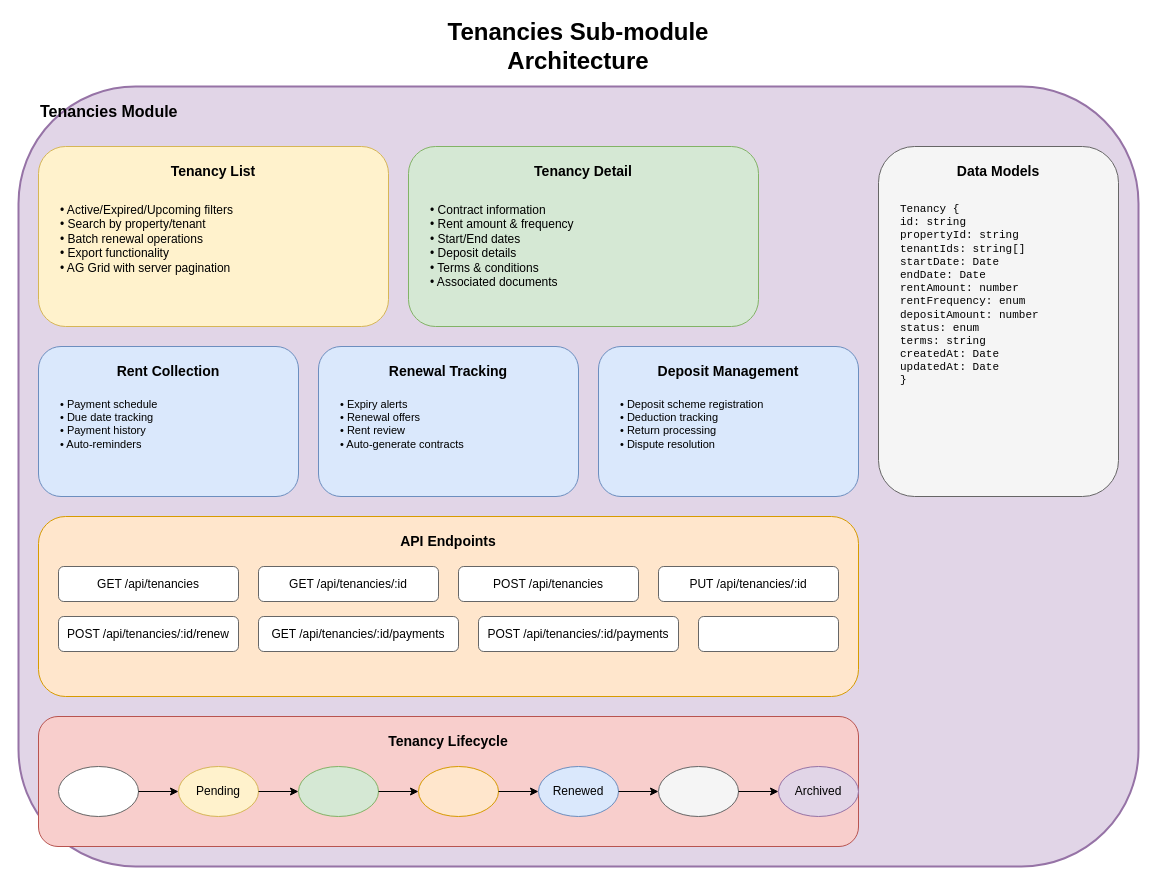
The diagram is 1156 pixels wide and 884 high, and some of its shapes have lost their labels. Here are the shapes that lost their labels. From the top down, the centre of each, then its label:
At [768,634]: "GET /api/tenancies/:id/deposits".
At [98,791]: "Draft".
At [338,791]: "Active".
At [458,791]: "Expiring".
At [698,791]: "Expired".
